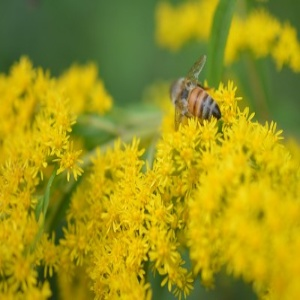bee: (169, 55, 222, 136)
